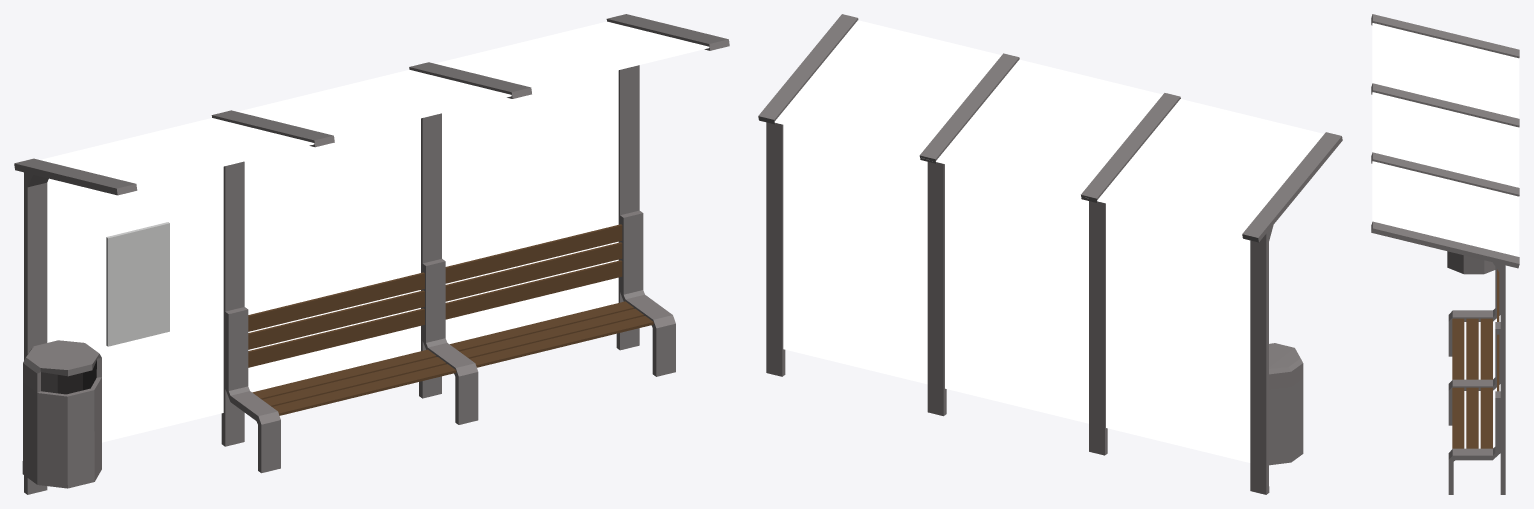
File: props-bus-stop.glb
3 renders of one model, left to right at view 1: azimuth 30°, elevation 25°; view 2: azimuth 150°, elevation 25°; view 3: azimuth 270°, elevation 25°, orthographic. The views are drawn at different scales.
Parts seen in each view (by area): view 1: bus-stop; view 2: bus-stop; view 3: bus-stop.
Boxes of the visible parts, x1,y1,x2,y2 form: bus-stop: [14, 14, 729, 494]; bus-stop: [758, 14, 1342, 494]; bus-stop: [1371, 14, 1519, 494].
Size of the model in its own units: 5.13 by 2.9 by 1.46.
